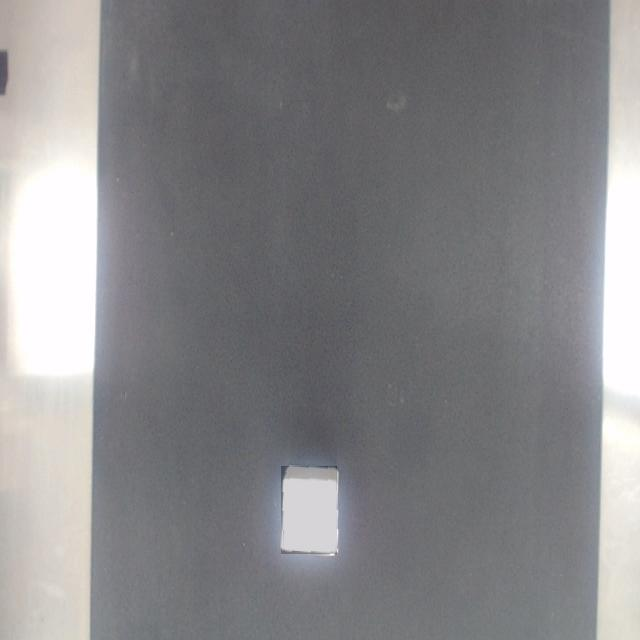Blanco: (282, 467, 337, 554)
